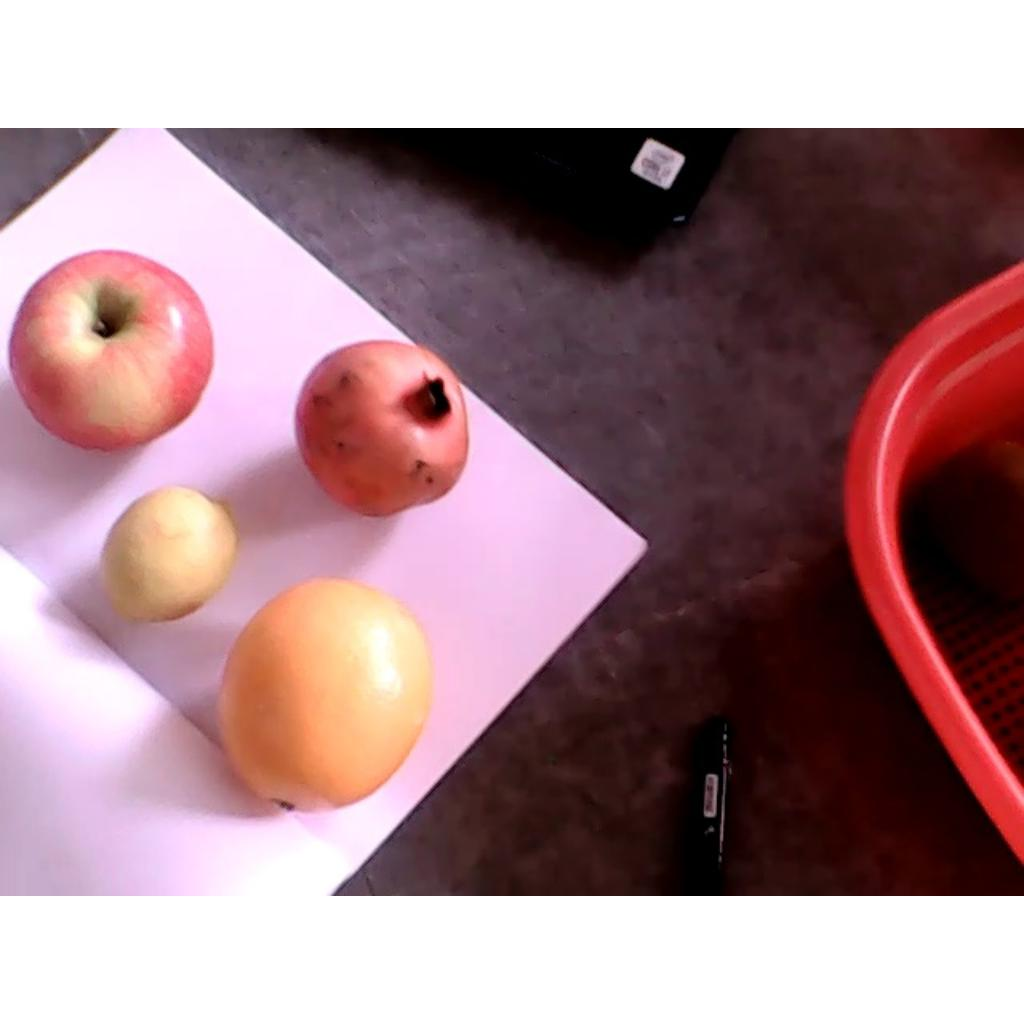apple: (7, 251, 216, 455)
lemon: (102, 486, 234, 625)
orange: (216, 575, 433, 817)
pomegranate: (294, 339, 469, 519)
